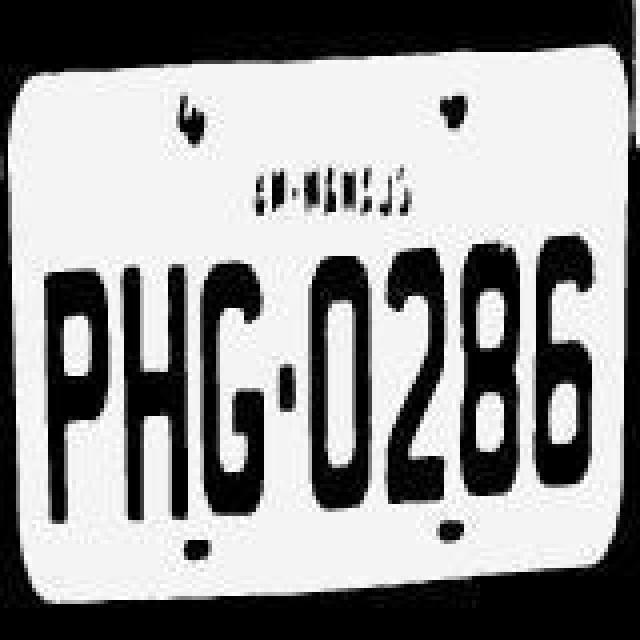2: (376, 234, 448, 518)
6: (534, 226, 602, 510)
8: (454, 228, 522, 508)
G: (196, 252, 268, 532)
H: (112, 264, 192, 536)
O: (310, 242, 378, 526)
P: (36, 266, 116, 542)
